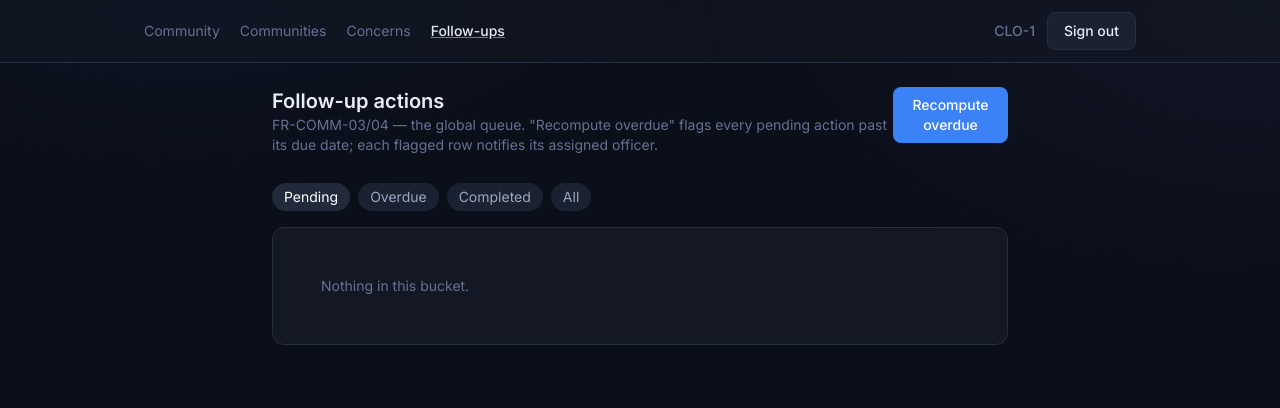
Test: FollowUpsPage › recomputes overdue, shows the result, and jumps to the overdue bucket
Check: the text "Nothing in this bucket." is shown, box [321,277,469,294]
Step 1. Click the button "Recompute overdue" → [950, 115], box [893,87,1008,143]
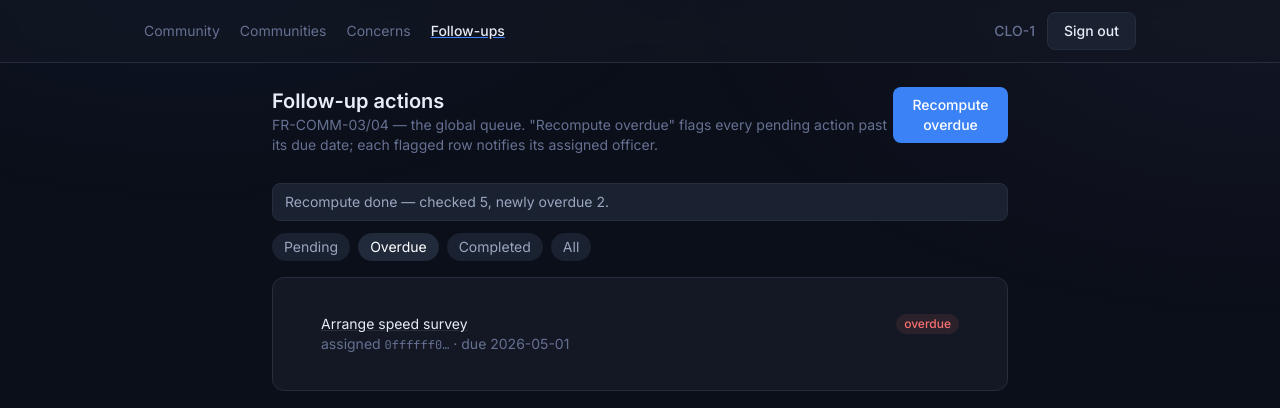
Check: the text "Recompute done — checked 5, newly overdue 2." is shown, box [272,183,1008,221]
Check: the link "Arrange speed survey" is shown, box [321,315,468,332]
